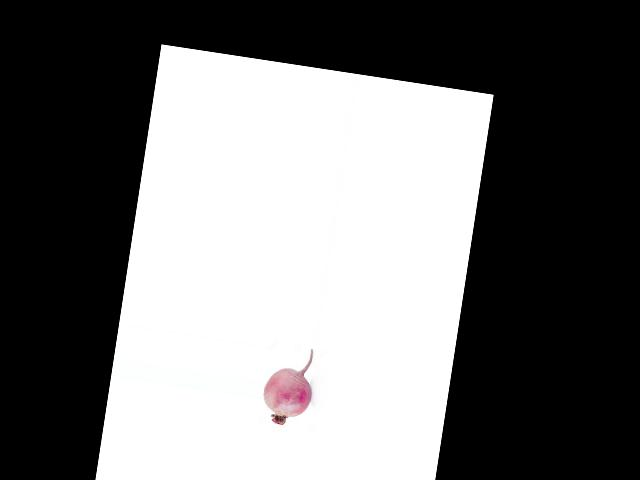beet: (259, 342, 318, 428)
